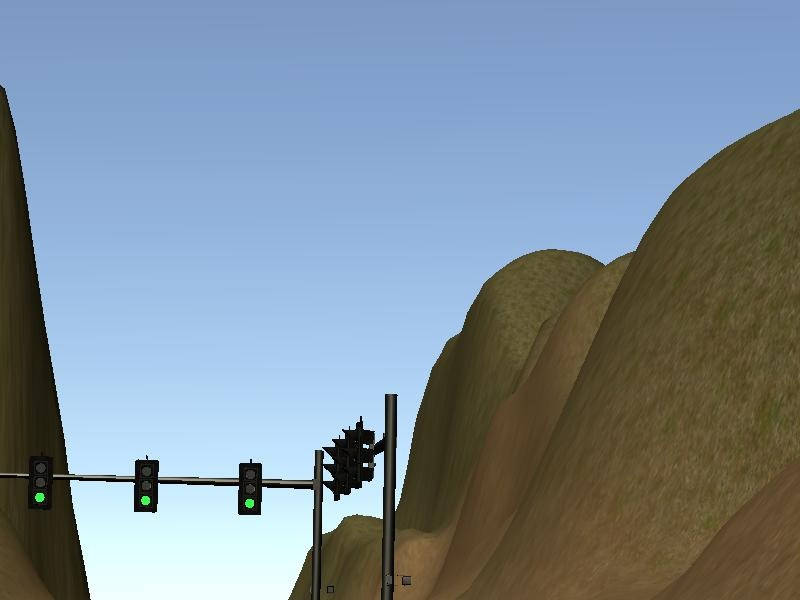green: (28, 455, 54, 511), (133, 458, 159, 514), (239, 462, 263, 518)
